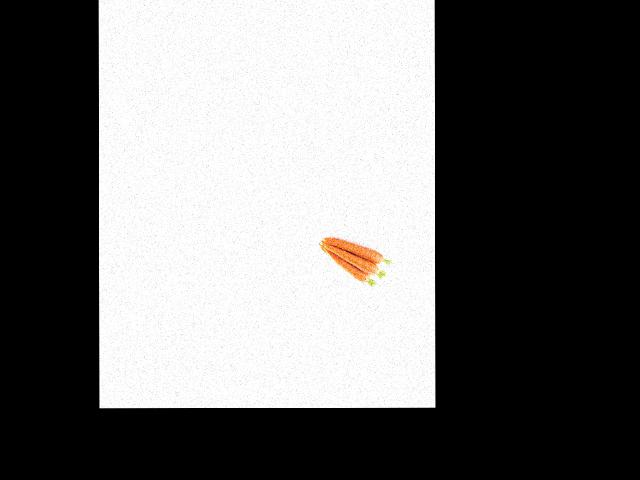carrot: (327, 226, 394, 264)
